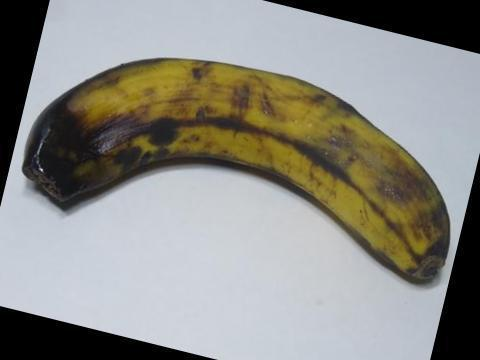overripe: (15, 48, 455, 291)
rotten: (11, 79, 139, 206)
